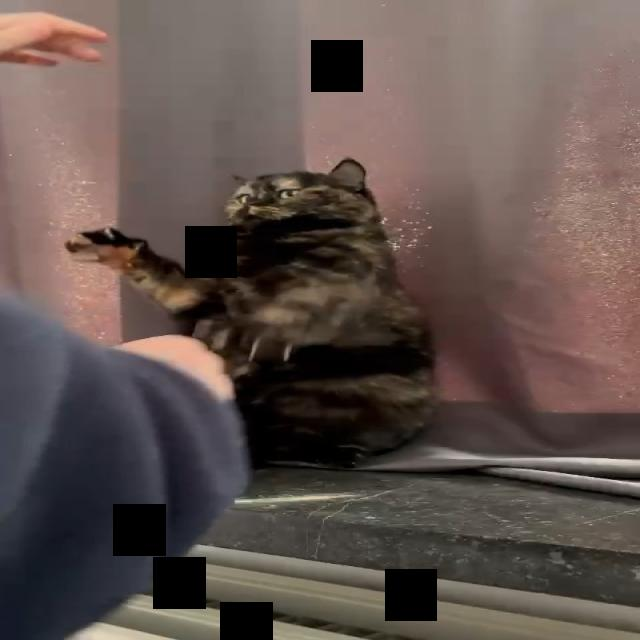authorized: (63, 157, 440, 469)
